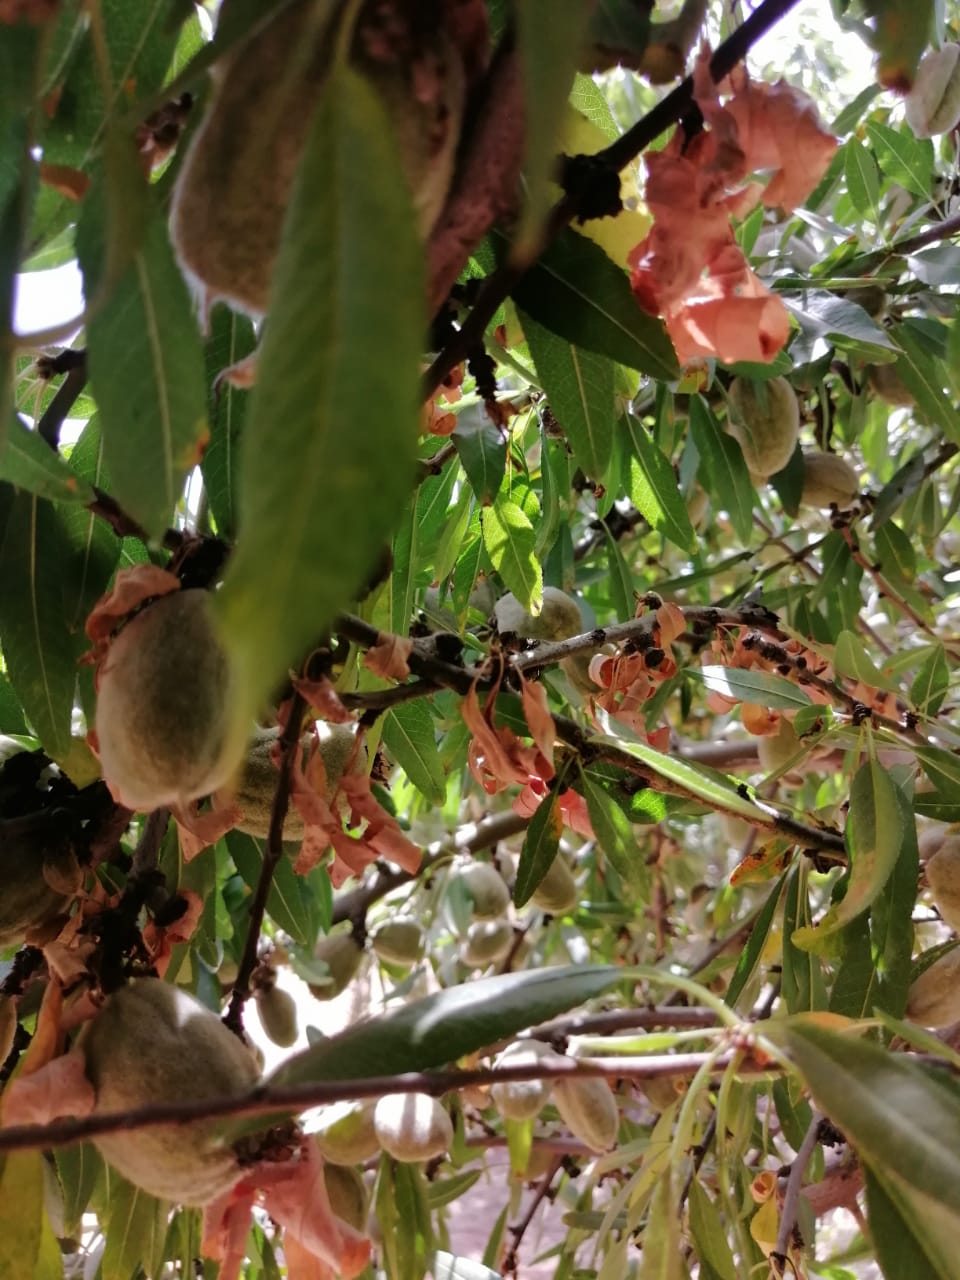chancre fusicocum: (311, 604, 903, 885), (149, 1057, 384, 1280)
